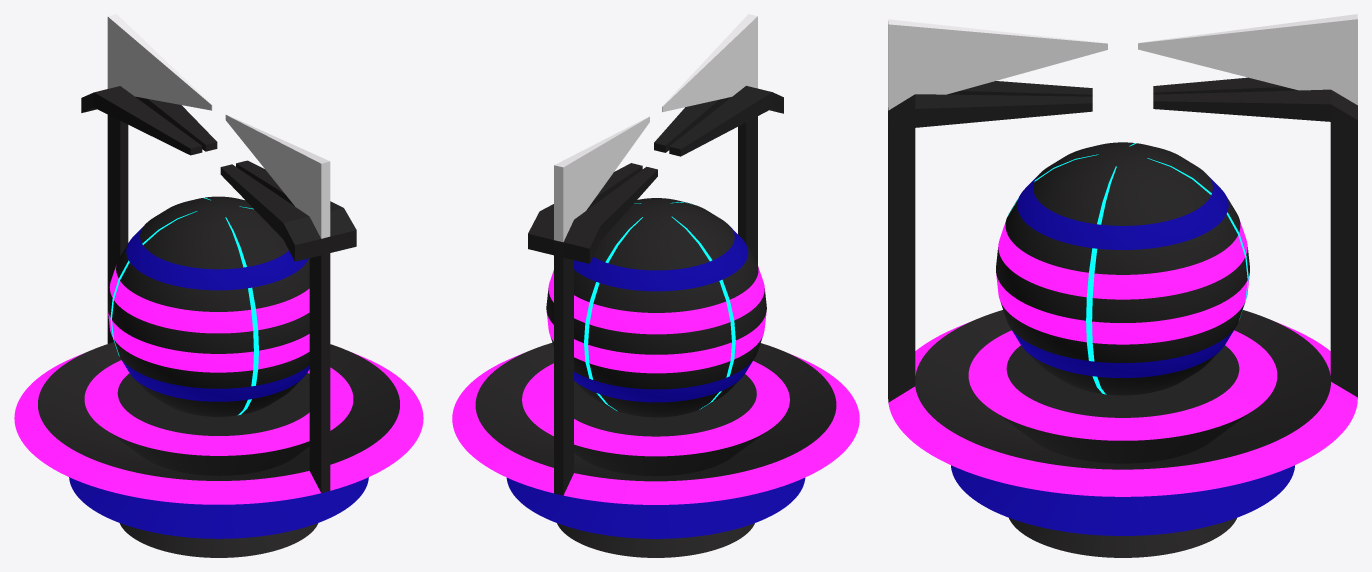
Rendered from Cup.fbx.
3 renders of one model, left to right at view 1: azimuth 30°, elevation 25°; view 2: azimuth 150°, elevation 25°; view 3: azimuth 270°, elevation 25°, orthographic. The views are drawn at different scales.
Visible parts, largest first — view 1: Cup; view 2: Cup; view 3: Cup.
Boxes of the visible parts, x1=… form: Cup: x1=14, y1=14, x2=423, y2=557; Cup: x1=452, y1=14, x2=859, y2=557; Cup: x1=888, y1=14, x2=1357, y2=557.
Bounding box in the file's own units: 404 × 465 × 404.
